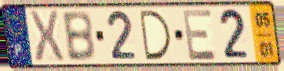2: (218, 6, 254, 64), (105, 8, 140, 64)
B: (60, 9, 98, 63)
D: (137, 9, 174, 62)
E: (181, 8, 220, 63)
X: (27, 9, 67, 65)
